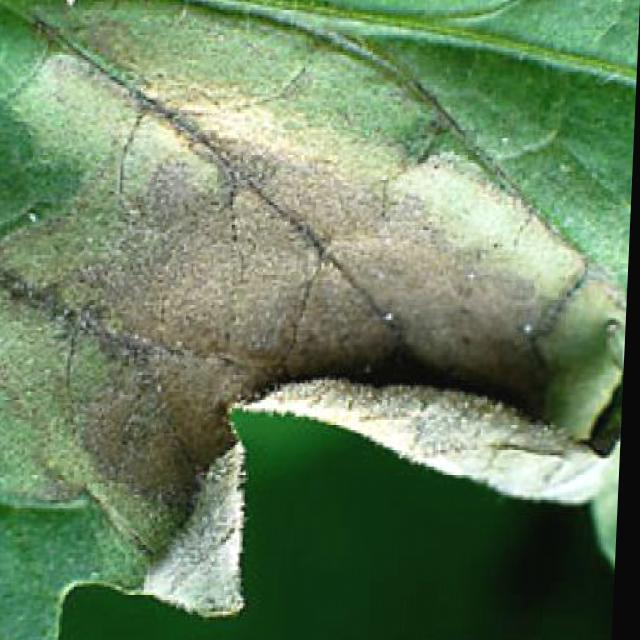Tomato mosaic virus leaf: (0, 1, 639, 622)
